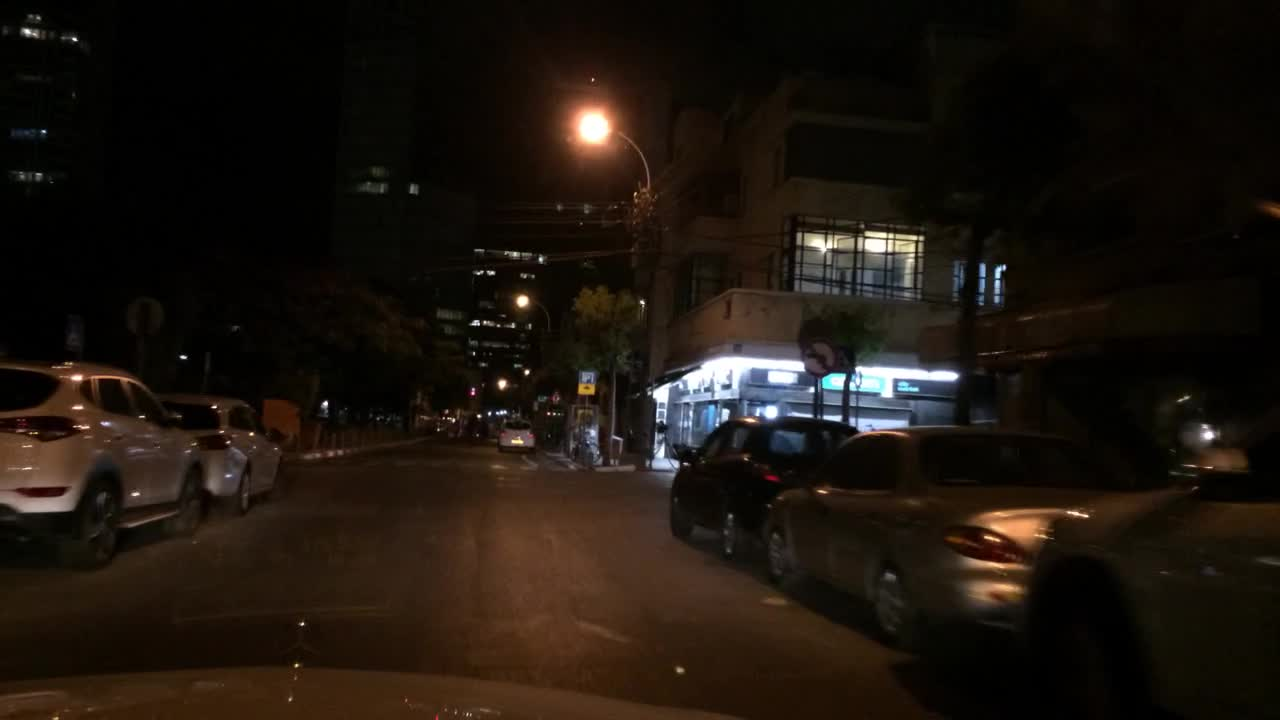car: (762, 430, 1110, 650), (1033, 427, 1279, 718), (0, 356, 208, 576), (663, 416, 854, 571), (165, 390, 284, 514), (496, 415, 539, 454)
traffic sign: (794, 340, 838, 375), (576, 369, 597, 398)
